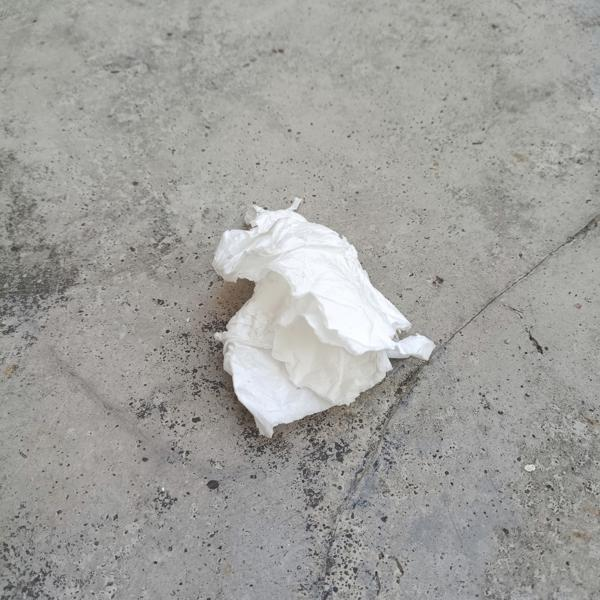Organik: (189, 186, 440, 444)
